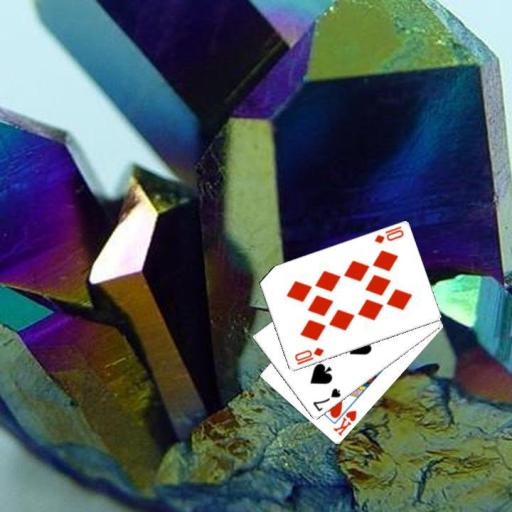10D: (372, 224, 406, 246), (292, 345, 325, 366)
7S: (309, 385, 342, 413)
KH: (330, 407, 358, 437)
